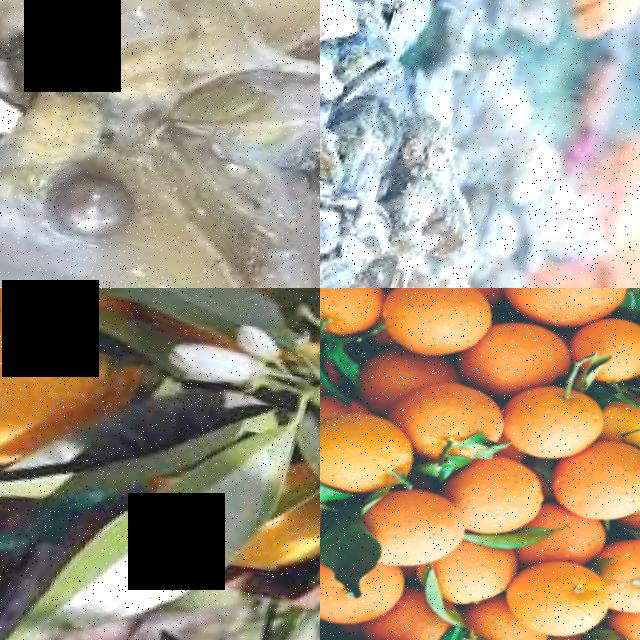orange: (0, 288, 132, 500), (372, 288, 506, 379), (496, 381, 613, 484), (400, 375, 514, 479), (320, 400, 420, 516), (452, 452, 558, 560), (371, 486, 477, 591), (475, 317, 586, 413), (497, 288, 640, 358), (504, 555, 618, 640), (543, 454, 640, 548), (435, 538, 524, 626), (320, 556, 408, 640), (570, 322, 640, 409), (320, 288, 395, 359), (601, 540, 640, 640)
oysters: (0, 0, 320, 225)
